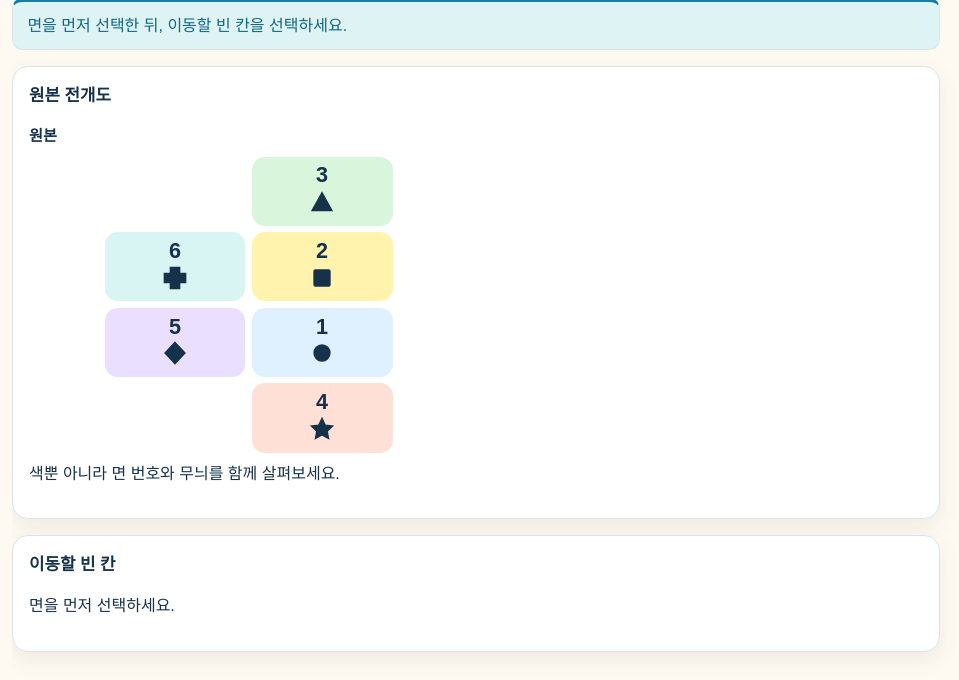
Test: RepairScreen › clears selection and preview with Escape
Click the button named "6번 면" at (175, 267), box top-left (104, 232), bottom-right (245, 301)
(page scrolled)
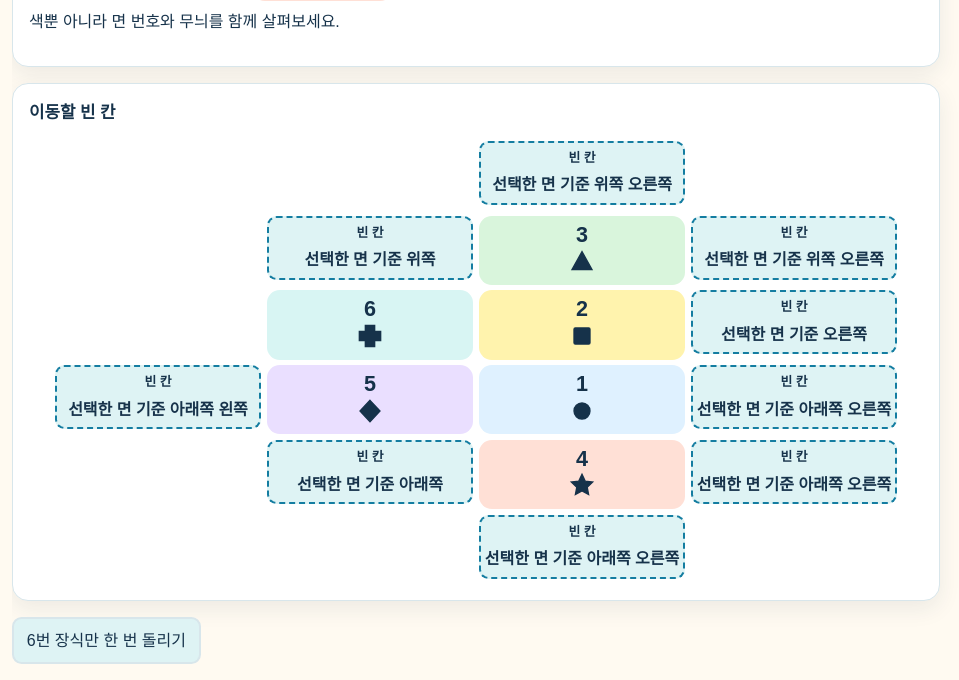
Click the button "빈 칸 선택한 면 기준 오른쪽" at (794, 322), box top-left (691, 290), bottom-right (897, 354)
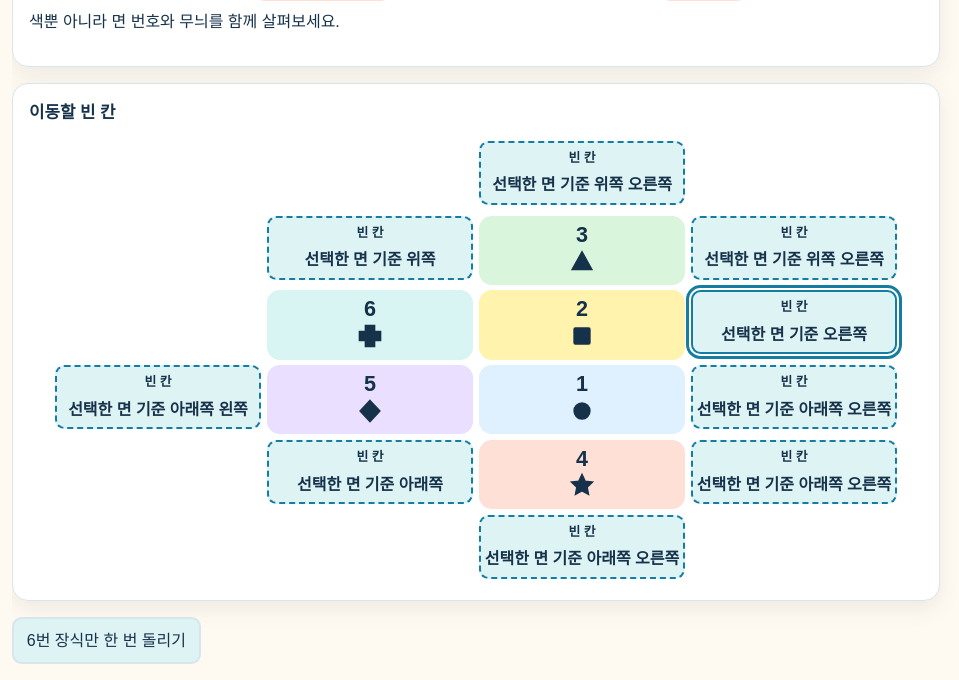
Press Escape
(page scrolled)
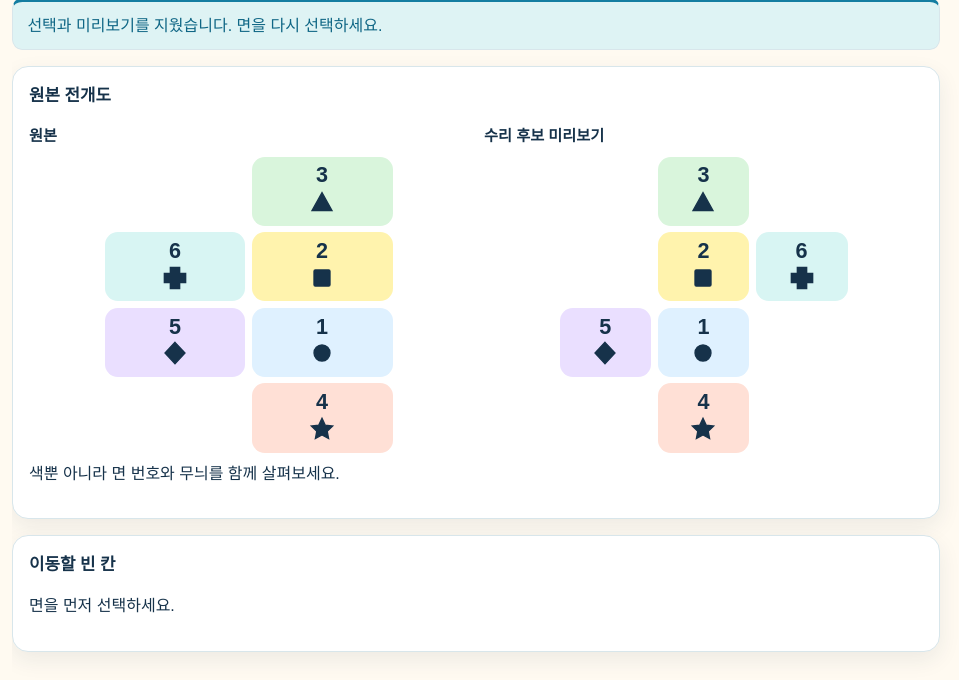
Result: the text "면을 먼저 선택하세요." is shown at top-left (29, 597), bottom-right (175, 614)
